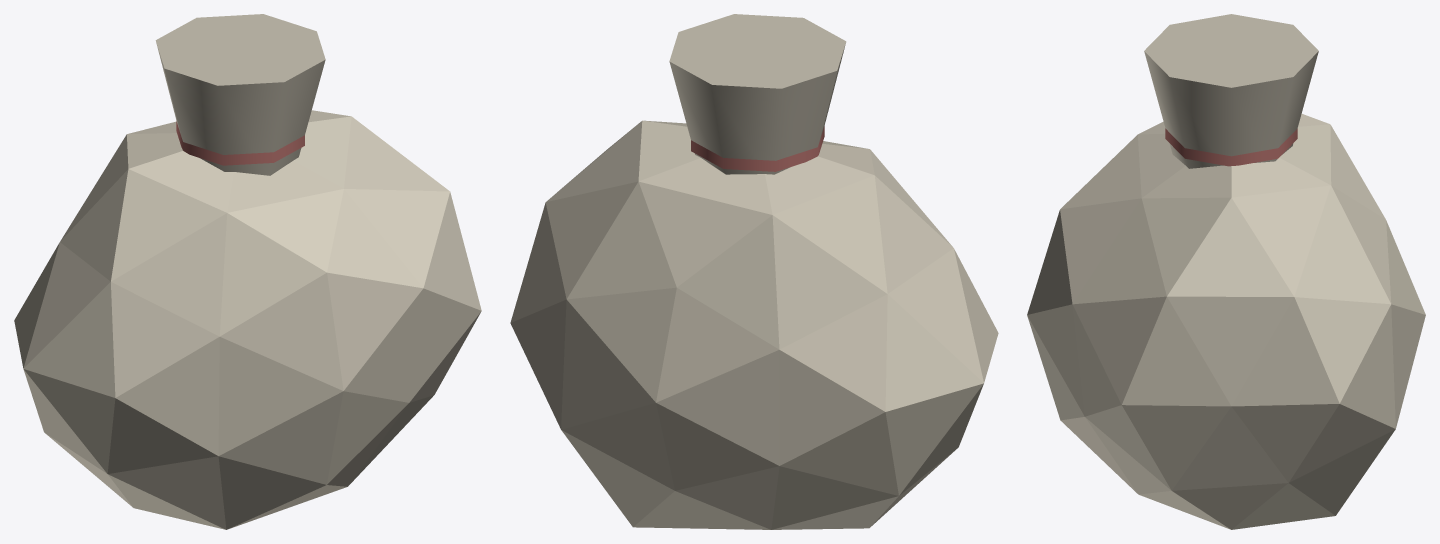
The model's file is goods.glb.
3 views of the same model, side by side, from view 1: azimuth 30°, elevation 25°; view 2: azimuth 150°, elevation 25°; view 3: azimuth 270°, elevation 25° (orthographic). The views are drawn at different scales.
Parts seen in each view (by area): view 1: goods; view 2: goods; view 3: goods.
Boxes of the visible parts, x1,y1,x2,y2 form: goods: [14, 14, 481, 529]; goods: [510, 14, 998, 529]; goods: [1027, 14, 1425, 529].
Bounding box in the file's own units: 0.4793 × 0.5125 × 0.4107.
